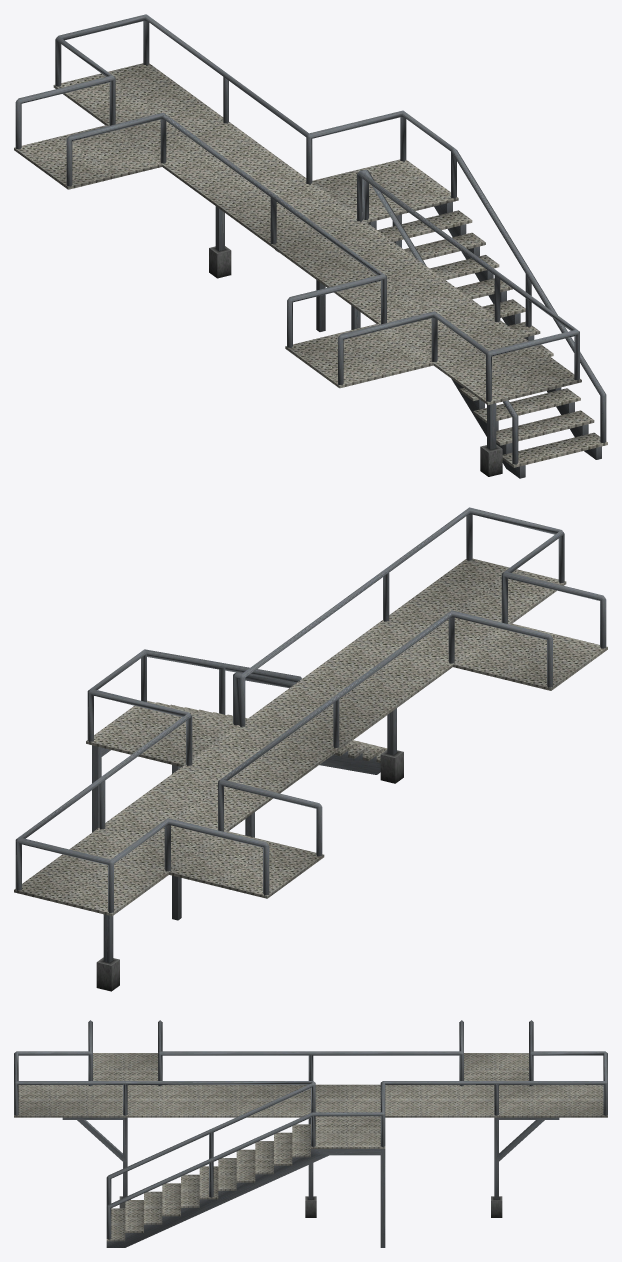
File: HangerIn_Gantry.glb
3 views of the same model, one above another, from view 1: azimuth 30°, elevation 25°; view 2: azimuth 150°, elevation 25°; view 3: azimuth 270°, elevation 25° (orthographic). The views are drawn at different scales.
Visible parts, largest first — view 1: HANGERIN_GANTRY; view 2: HANGERIN_GANTRY; view 3: HANGERIN_GANTRY.
Part boxes in pixels (box(x1,y1,x2,y2)): HANGERIN_GANTRY: box(14, 14, 607, 478); HANGERIN_GANTRY: box(14, 507, 607, 991); HANGERIN_GANTRY: box(14, 1020, 607, 1247).
Bounding box in the file's own units: 6 × 4.06 × 16.
3 materials, 3 textured.
